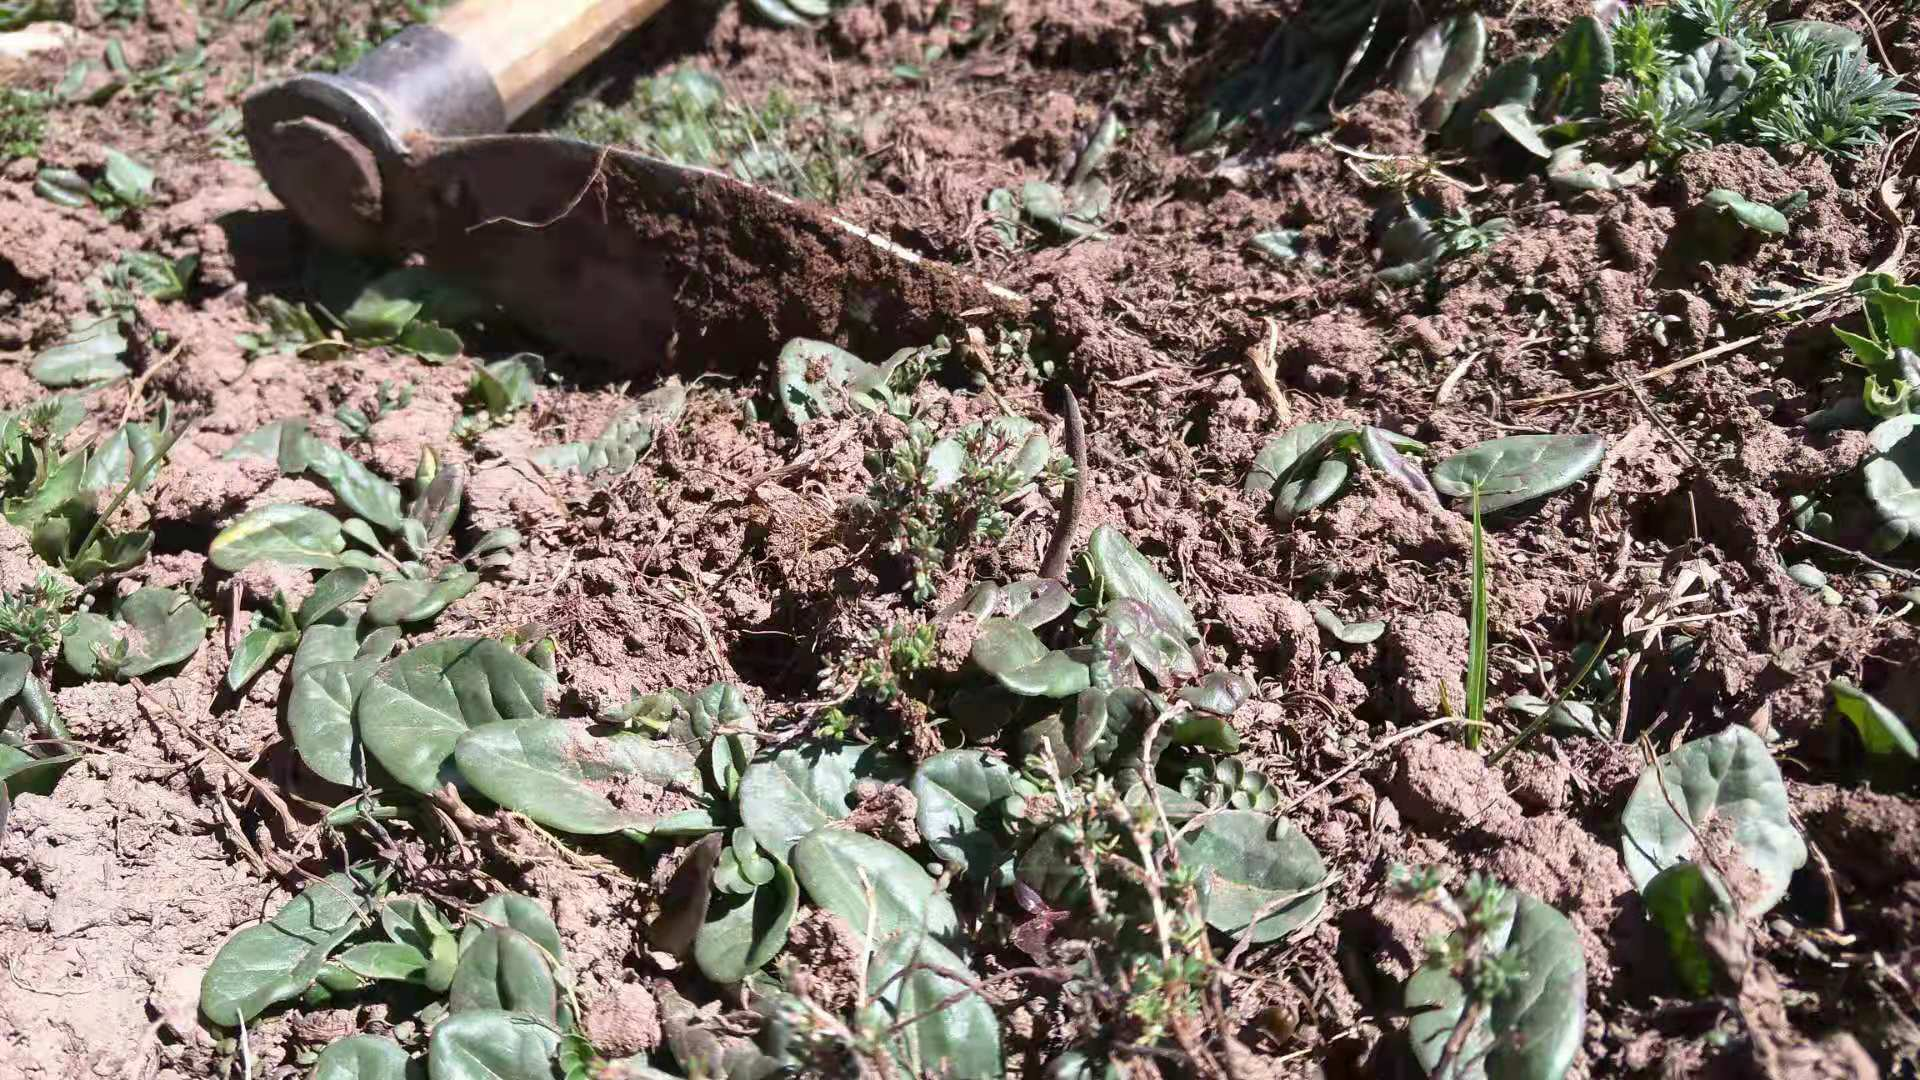cpf: (1036, 380, 1093, 580)
